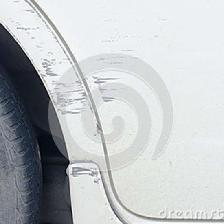door_scratch: (5, 11, 129, 137)
